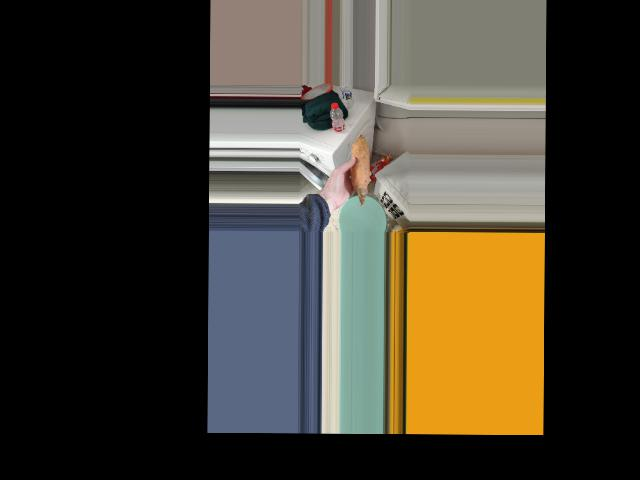sweet_potato: (352, 136, 368, 197)
